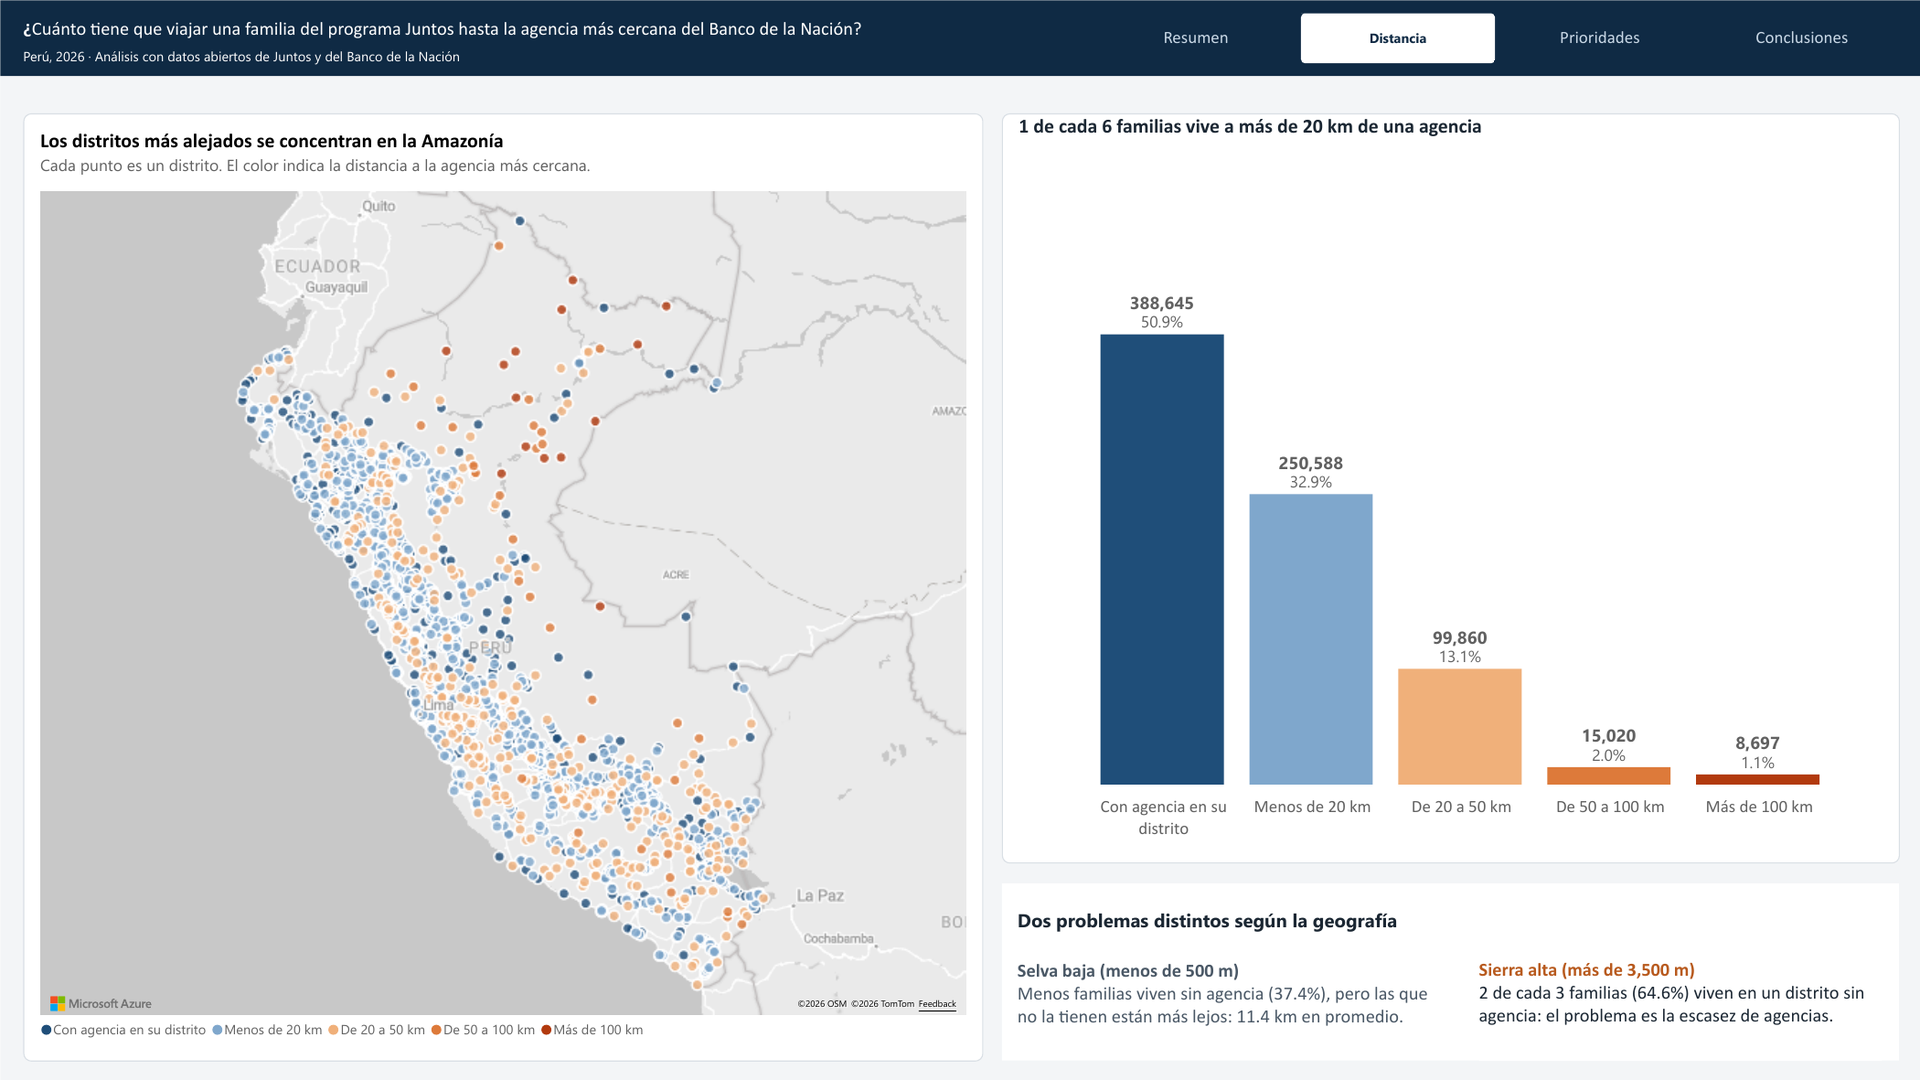

What the dashboard file says about the page in this screenshot:
{"tool":"powerbi","page":{"name":"Distancia","canvas":[1920,1080],"ordinal":1},"visuals":[{"type":"azureMap","title":"Los distritos más alejados se concentran en la Amazonía","fields":{"Series":["resultado_distrito.Rango"],"Size":["Sum(resultado_distrito.FAMILIAS_ABONADAS)"],"X":["resultado_distrito.LONGITUD"],"Y":["resultado_distrito.LATITUD"]},"box":[22.5,112.5,960,947.5],"z":0},{"type":"shape","box":[1001.4,882.9,897.1,177.1],"z":1000},{"type":"clusteredColumnChart","title":"1 de cada 6 familias vive a más de 20 km de una agencia","fields":{"Category":["resultado_distrito.Rango"],"Y":["resultado_distrito.Familias"]},"box":[1001.2,112.5,897.5,750],"z":2000},{"type":"textbox","box":[1017.1,907.1,402.9,51.4],"z":3000},{"type":"textbox","box":[1017.1,958.6,422.9,71.4],"z":4000},{"type":"textbox","box":[1478.6,957.1,402.9,102.9],"z":5000},{"type":"shape","box":[0,0,1920,75.6],"z":6000},{"type":"pageNavigator","box":[1098.8,12.5,800,50],"z":7000},{"type":"textbox","box":[22.5,17.5,851.1,29.6],"z":7001},{"type":"textbox","box":[22.5,47.5,484.8,26.9],"z":7002}]}

Visuals, with their boxes in screenshot pixels (x1, y1, x2, y2), scaled from the page's 1920x1080 canvas onto the 1920x1080 screenshot:
"Los distritos más alejados se concentran en la Amazonía" azureMap: pyautogui.locateOnScreen(22, 112, 982, 1060)
shape: pyautogui.locateOnScreen(1001, 883, 1898, 1060)
"1 de cada 6 familias vive a más de 20 km de una agencia" clusteredColumnChart: pyautogui.locateOnScreen(1001, 112, 1899, 862)
textbox: pyautogui.locateOnScreen(1017, 907, 1420, 958)
textbox: pyautogui.locateOnScreen(1017, 959, 1440, 1030)
textbox: pyautogui.locateOnScreen(1479, 957, 1882, 1060)
shape: pyautogui.locateOnScreen(0, 0, 1919, 76)
pageNavigator: pyautogui.locateOnScreen(1099, 12, 1899, 62)
textbox: pyautogui.locateOnScreen(22, 18, 874, 47)
textbox: pyautogui.locateOnScreen(22, 48, 507, 74)
